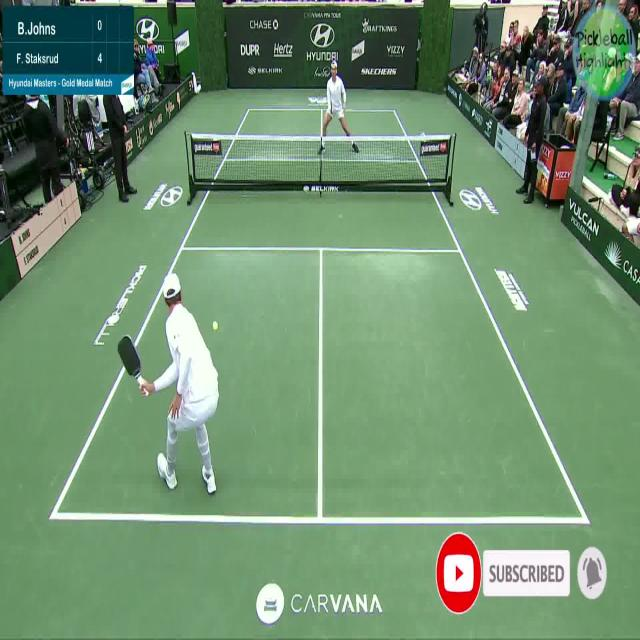ball: (210, 313, 219, 334)
